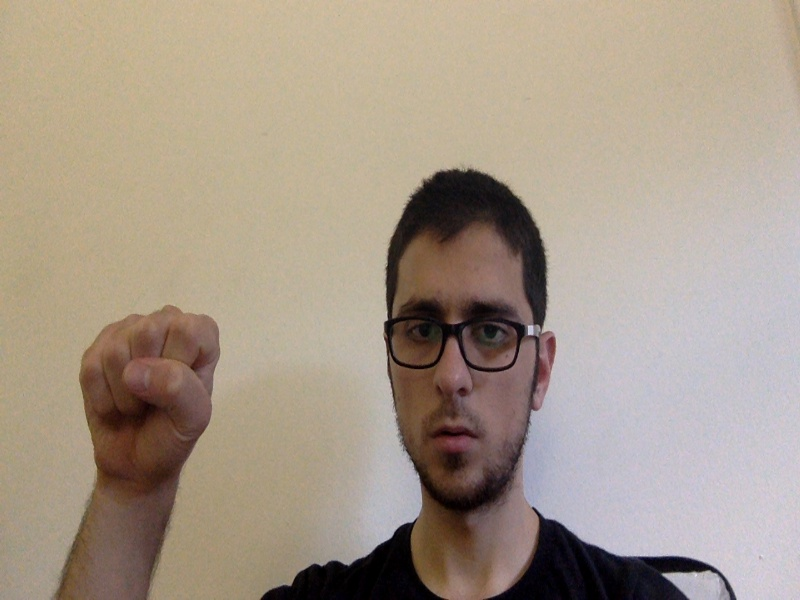0-hand: (79, 305, 221, 477)
